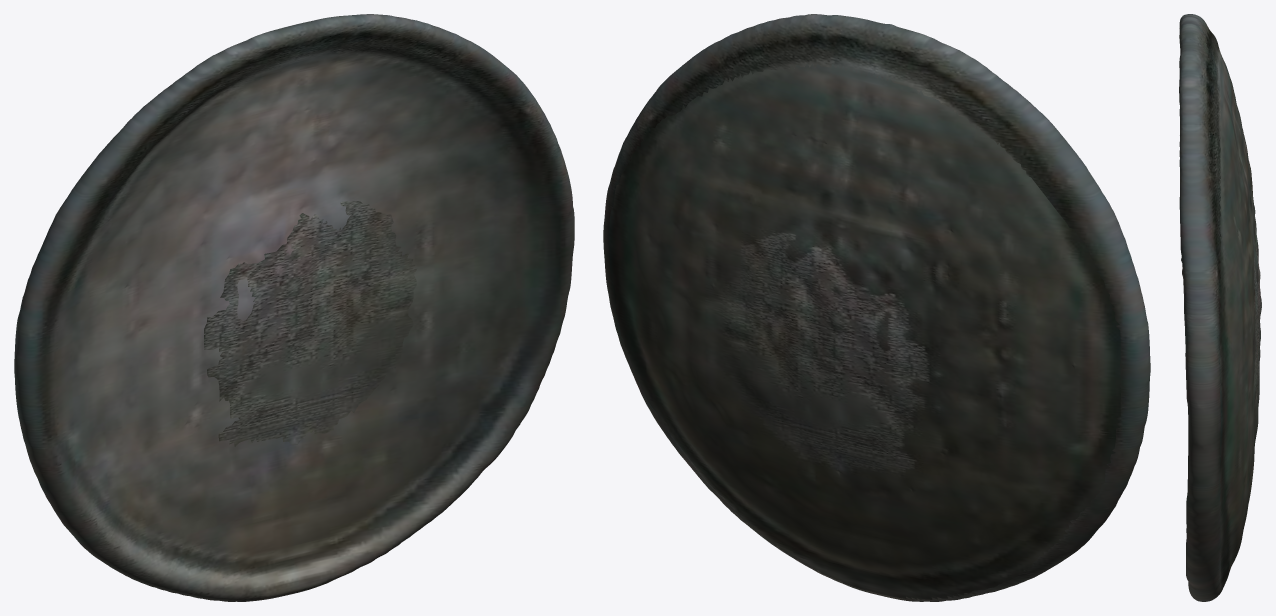
Rendered from kfl-2243.glb.
The picture shows the model from 3 angles, left to right: view 1: azimuth 30°, elevation 25°; view 2: azimuth 150°, elevation 25°; view 3: azimuth 270°, elevation 25°; orthographic projection. The views are drawn at different scales.
Visible parts, largest first — view 1: geometry_0; view 2: geometry_0; view 3: geometry_0.
Boxes of the visible parts, box(x1,y1,x2,y2) form: geometry_0: box(14, 14, 574, 601); geometry_0: box(603, 14, 1150, 601); geometry_0: box(1179, 14, 1261, 601).
Size of the model in its own units: 0.9958 by 0.9825 by 0.1376.
1 material, 1 textured.
